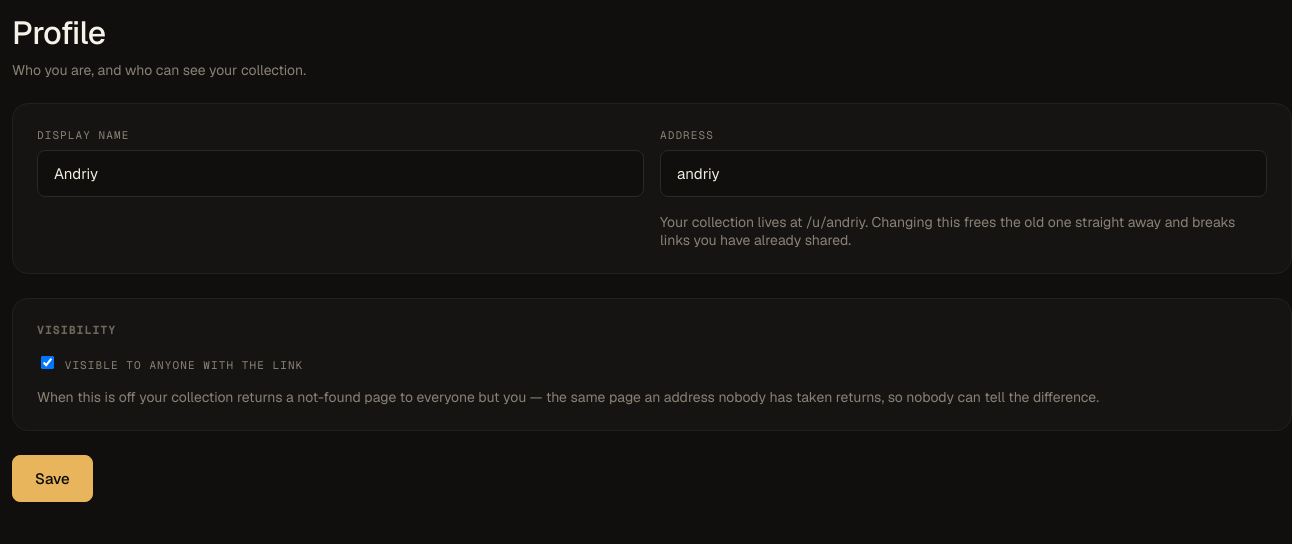
Test: AccountPage › renders a taken address as a field error, not a page error
Expected: the field labelled "Address" holds "andriy", [660,150,1267,197]
Click the button "Save" at (52, 478), box [12,455,93,502]
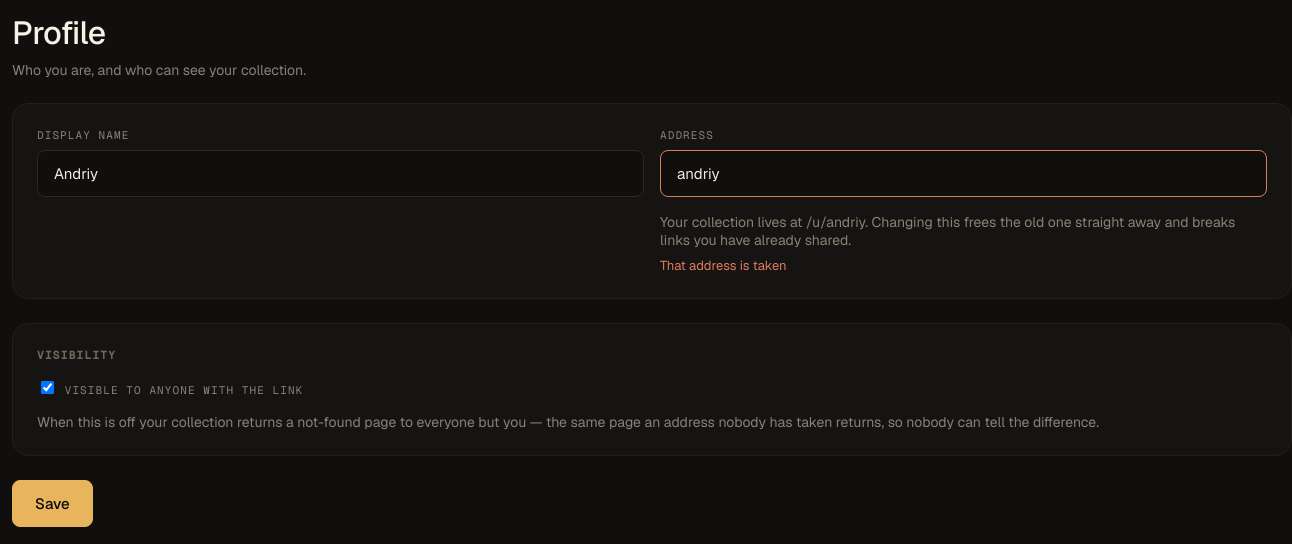
Expected: the message shows "taken", [660,257,787,274]
